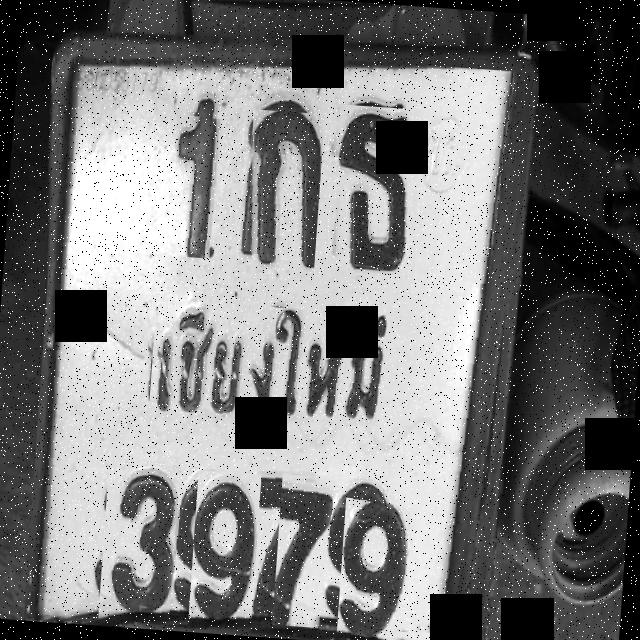letters: (318, 103, 423, 297), (97, 452, 185, 630), (240, 109, 324, 284), (150, 112, 239, 260), (187, 470, 261, 636), (335, 497, 417, 640), (272, 473, 335, 628)
license-plate: (23, 42, 532, 637)
province: (148, 298, 422, 438)
